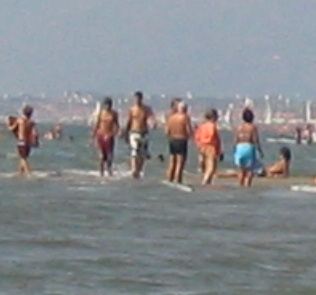person: (118, 87, 156, 188)
